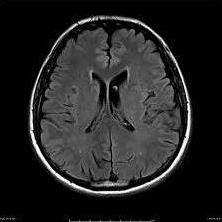Normal_Brain: (1, 1, 222, 222)
